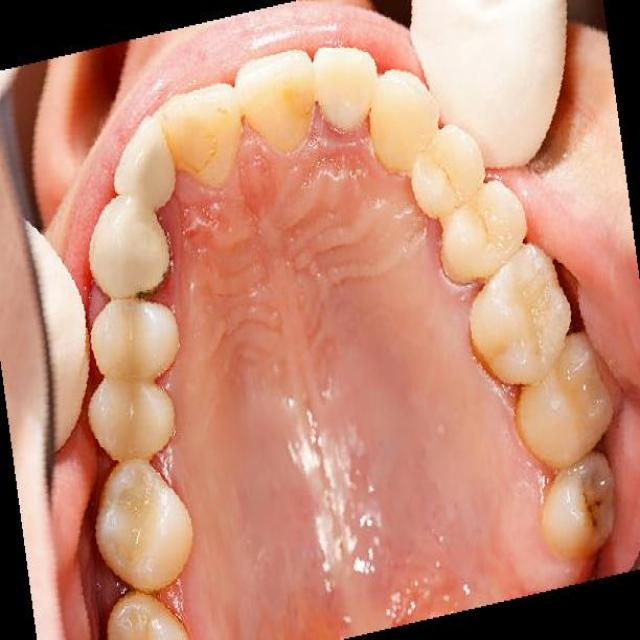caries: (574, 473, 616, 543)
